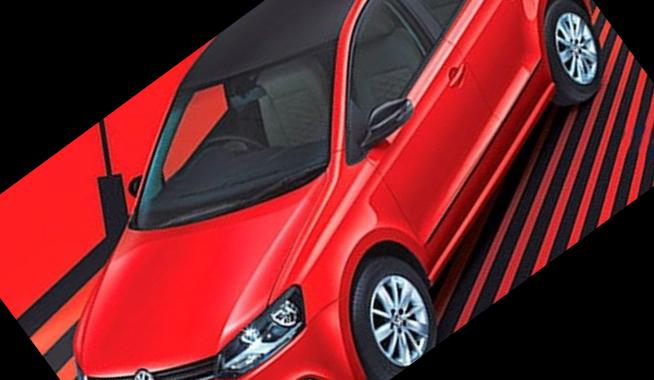plate: (111, 367, 220, 380)
